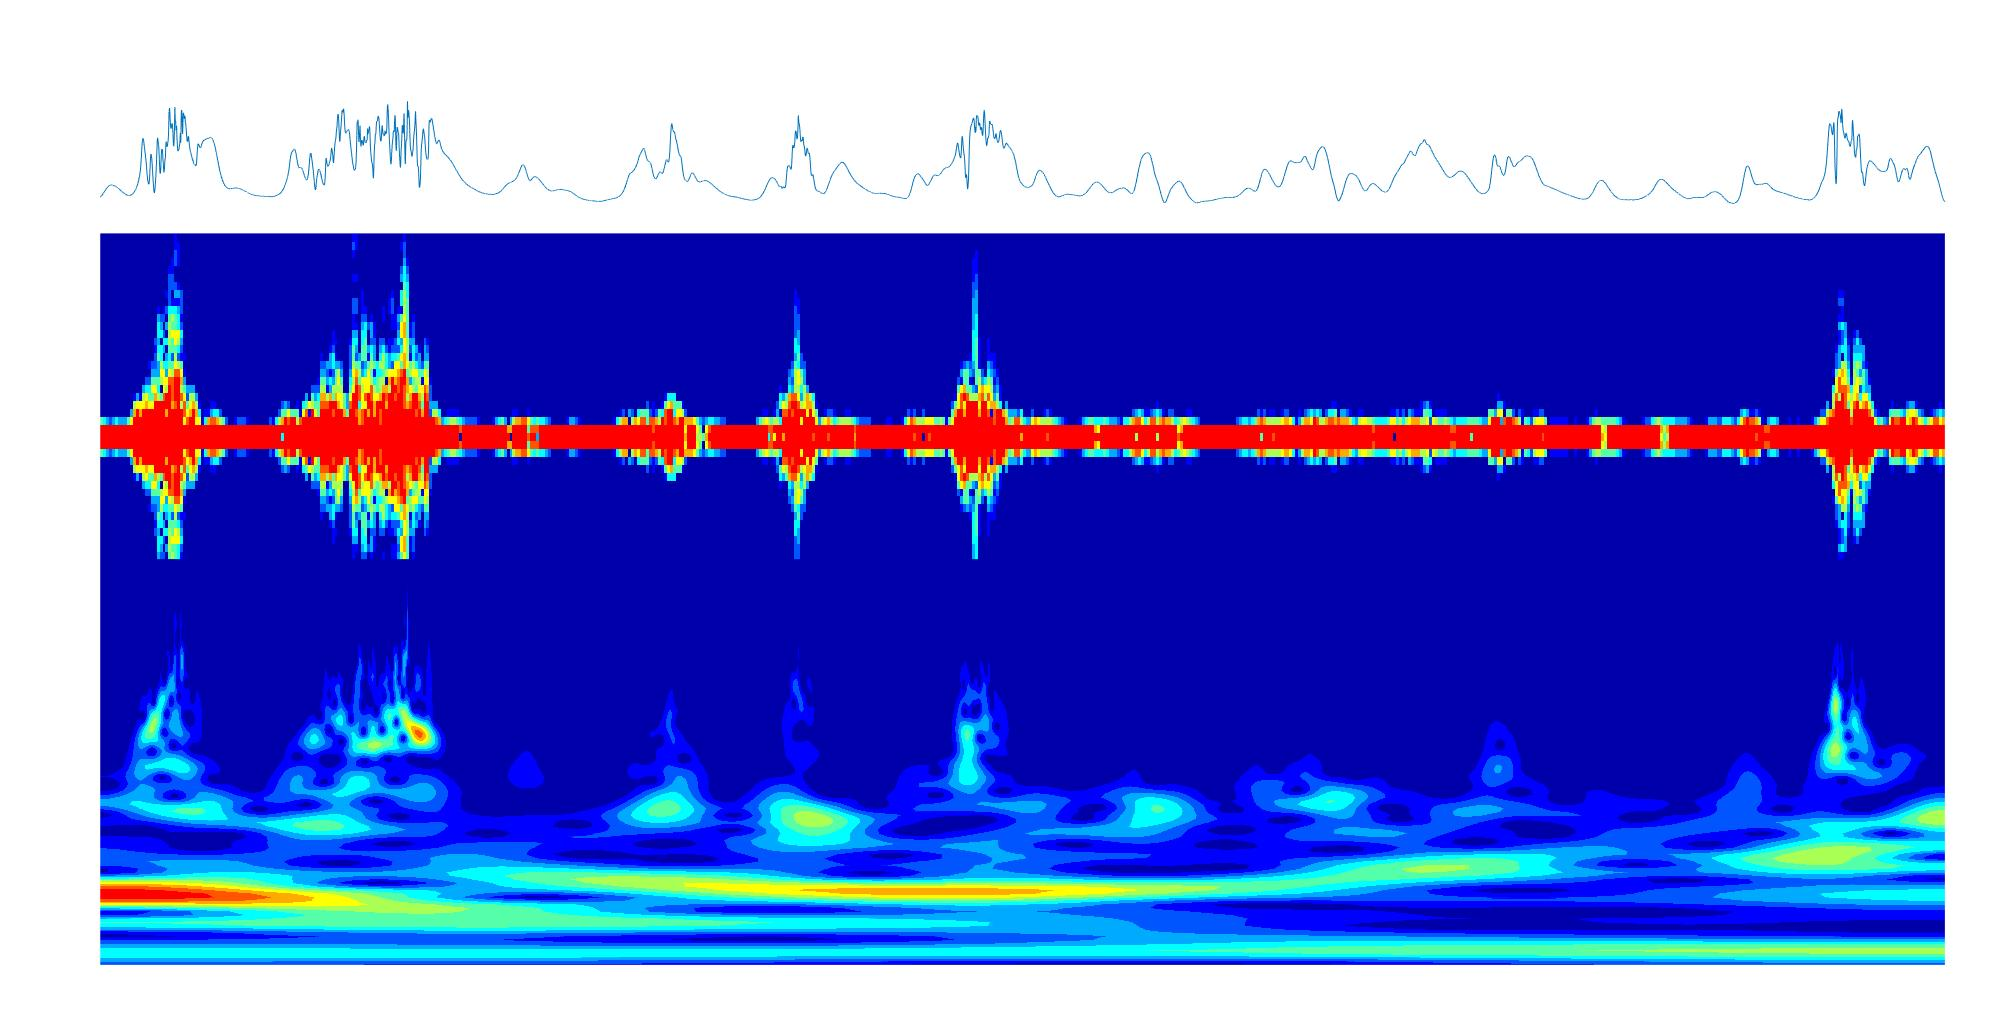TURBULENT: (288, 235, 427, 962), (104, 233, 215, 965), (946, 236, 1010, 964), (1818, 233, 1875, 962), (772, 233, 822, 967)
